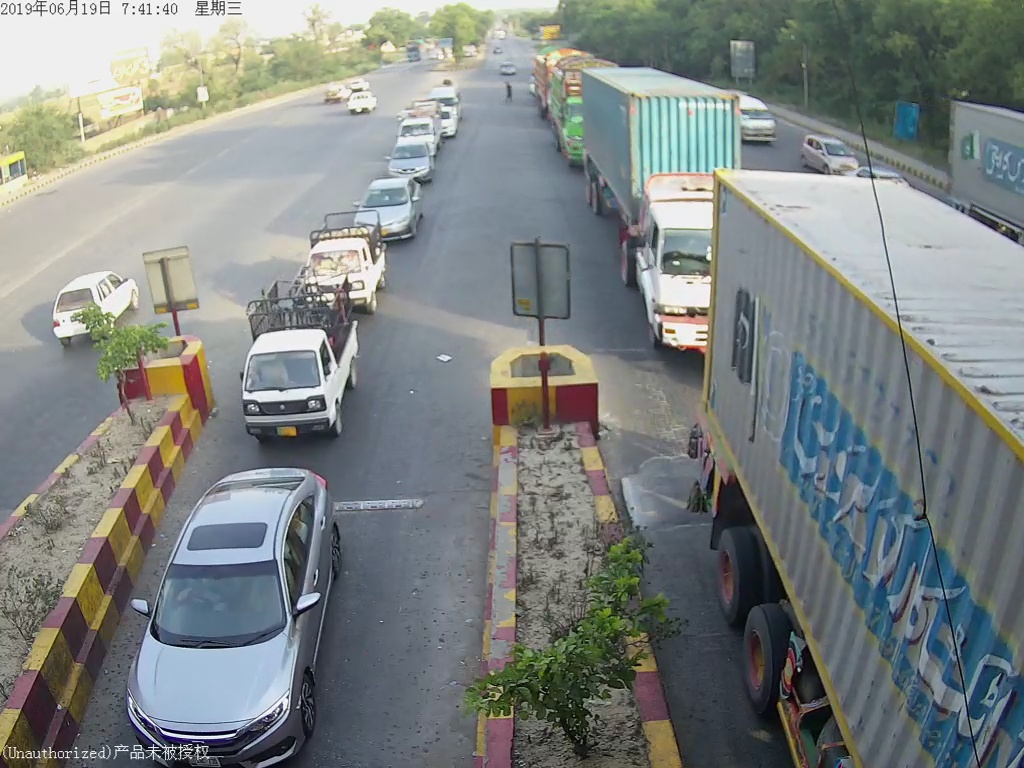Cat-1: (123, 471, 347, 739), (238, 295, 368, 437), (302, 219, 380, 283), (385, 142, 434, 181)
Cat-5: (582, 75, 707, 359)
